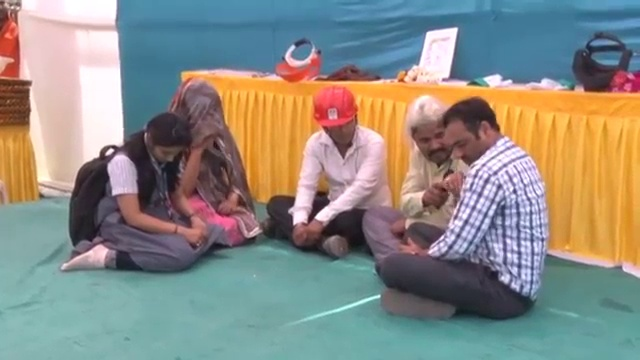helmet: (312, 85, 360, 130)
helmet_off: (426, 99, 504, 168), (403, 96, 458, 172), (134, 111, 192, 172), (174, 79, 224, 141), (0, 2, 21, 24)
helmet_on: (310, 85, 364, 147)
person: (354, 96, 549, 319), (257, 81, 416, 260), (58, 113, 226, 273), (358, 100, 474, 264), (158, 80, 260, 243), (0, 2, 21, 81)
